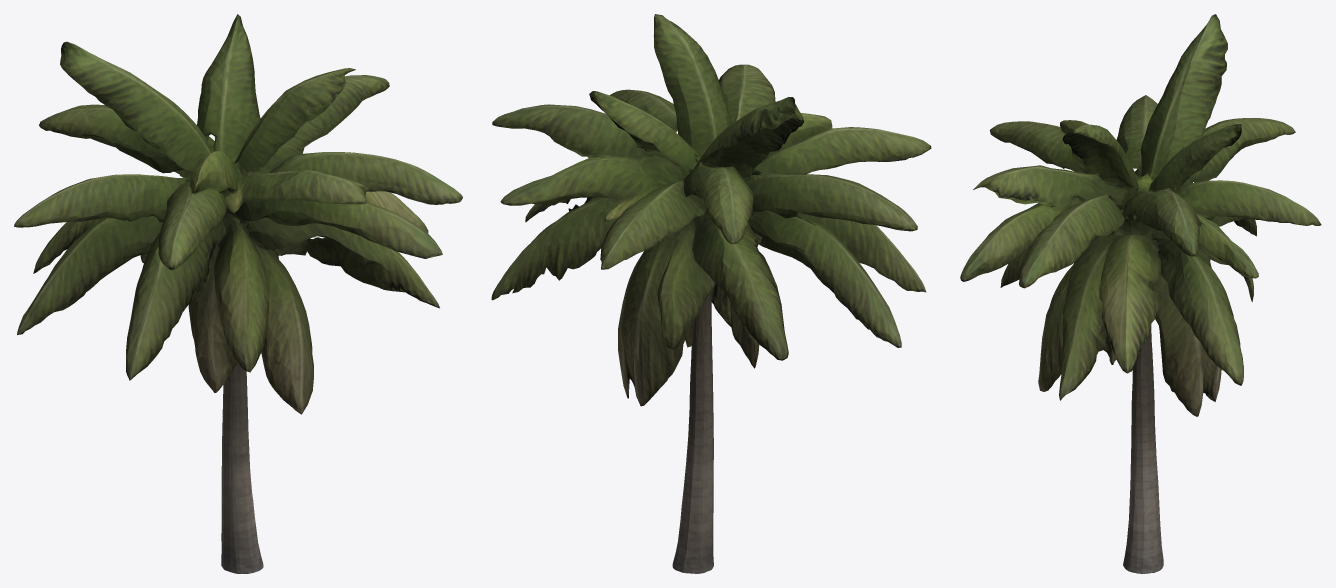
The model's file is coconut_tree2.glb.
The picture shows the model from 3 angles, left to right: view 1: azimuth 30°, elevation 25°; view 2: azimuth 150°, elevation 25°; view 3: azimuth 270°, elevation 25°; orthographic projection. The views are drawn at different scales.
Visible parts, largest first — view 1: world; view 2: world; view 3: world.
Part boxes in pixels (x1,y1,x2,y2): world: (14, 14, 462, 573); world: (491, 14, 931, 573); world: (960, 14, 1321, 573).
Bounding box in the file's own units: 0.7925 × 0.9947 × 0.6651.
Materials: 1 (1 with a texture image).
